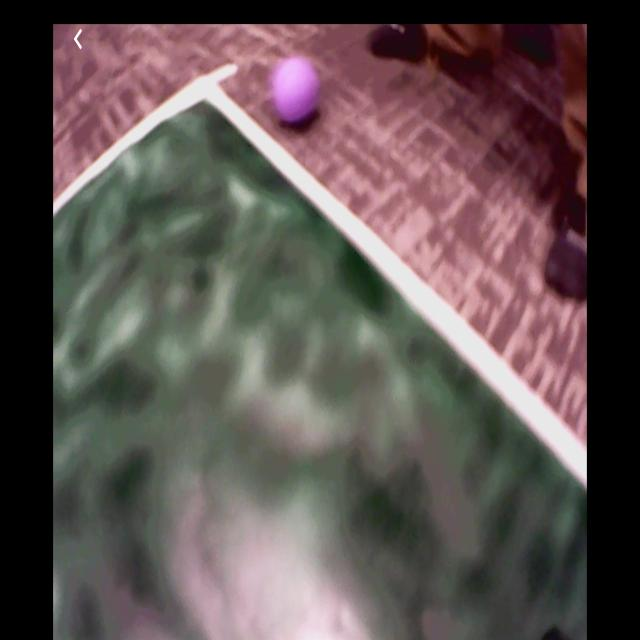ball: (274, 57, 320, 122)
